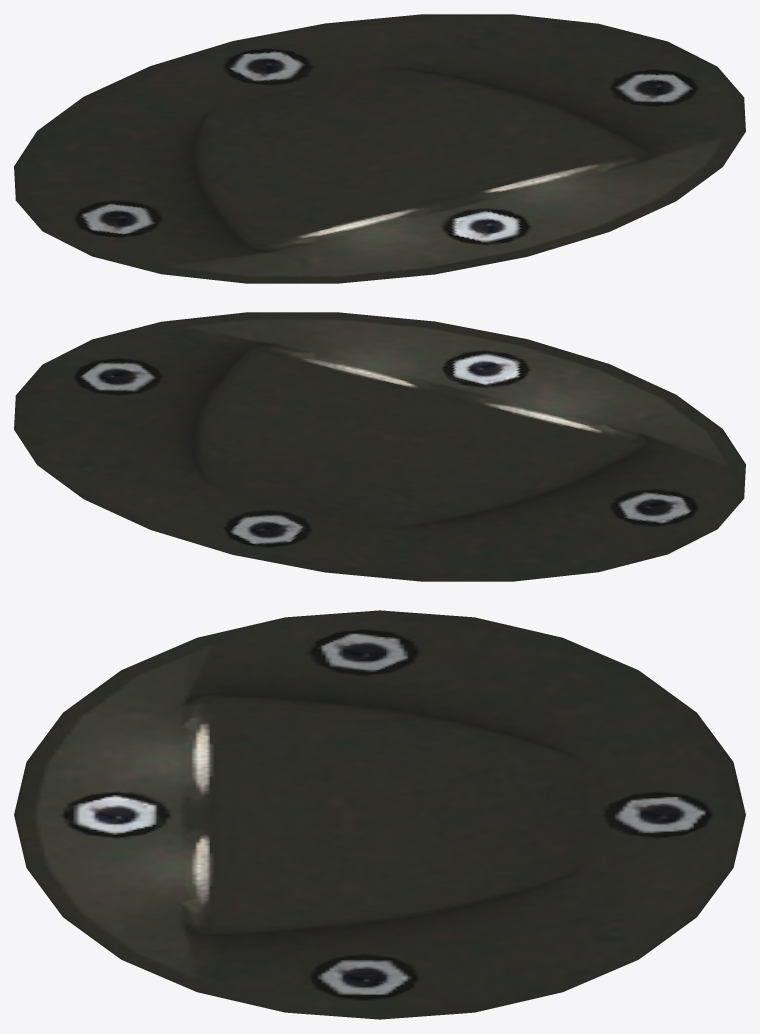
The model's file is unterflurfeuer_weiss_lod.fbx.
The picture shows the model from 3 angles, top to bottom: view 1: azimuth 30°, elevation 25°; view 2: azimuth 150°, elevation 25°; view 3: azimuth 270°, elevation 25°; orthographic projection. The views are drawn at different scales.
Visible parts, largest first — view 1: Mesh; view 2: Mesh; view 3: Mesh.
Part boxes in pixels (box(x1,y1,x2,y2)): Mesh: box(14, 14, 745, 283); Mesh: box(14, 312, 745, 581); Mesh: box(14, 610, 745, 1019).
Bounding box in the file's own units: 31.39 × 0 × 23.73.
